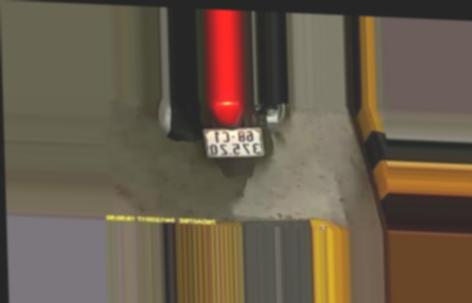License_Plate: (203, 123, 263, 162)
